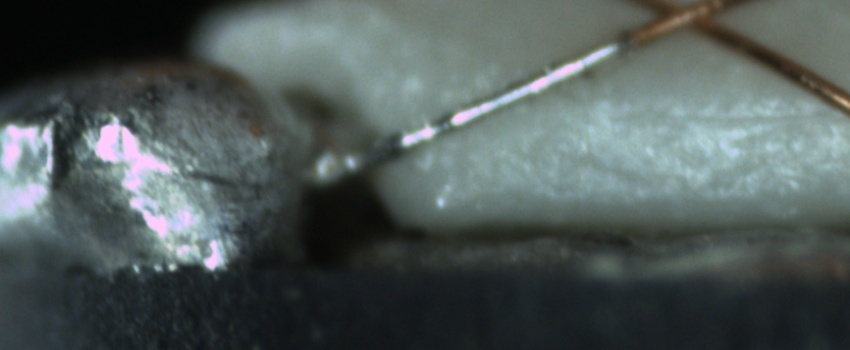CL: (625, 0, 734, 40)
DL: (603, 83, 835, 148)
TS: (320, 40, 624, 184)
